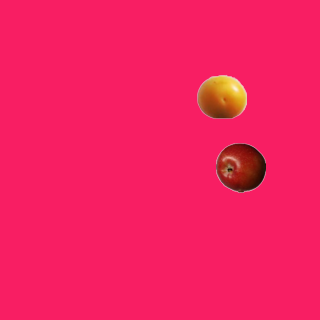Apple Braeburn: (215, 142, 265, 192)
Cherry Wax Yellow: (196, 71, 246, 121)
